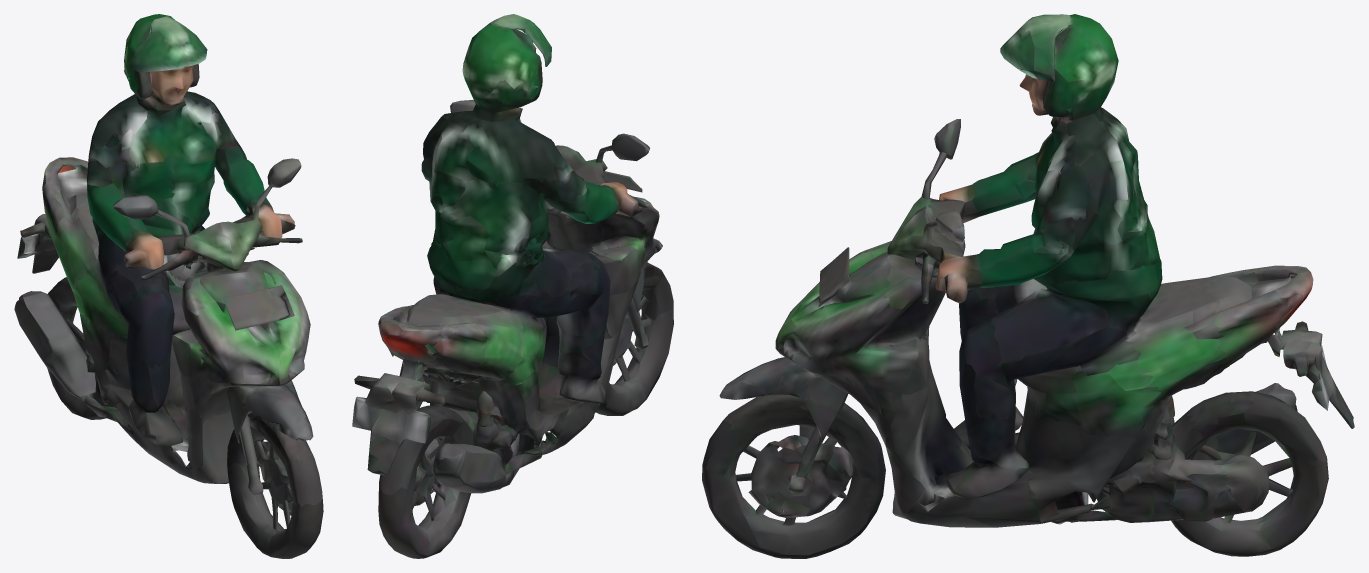
The model's file is gojek_motor_lod2.glb.
The picture shows the model from 3 angles, left to right: view 1: azimuth 30°, elevation 25°; view 2: azimuth 150°, elevation 25°; view 3: azimuth 270°, elevation 25°; orthographic projection. The views are drawn at different scales.
Visible parts, largest first — view 1: tripo_node_ae440db3-2346-4a98-8b22-436718429f5c; view 2: tripo_node_ae440db3-2346-4a98-8b22-436718429f5c; view 3: tripo_node_ae440db3-2346-4a98-8b22-436718429f5c.
Part boxes in pixels (bbox=[...]): tripo_node_ae440db3-2346-4a98-8b22-436718429f5c: bbox=[14, 14, 323, 558]; tripo_node_ae440db3-2346-4a98-8b22-436718429f5c: bbox=[352, 14, 673, 558]; tripo_node_ae440db3-2346-4a98-8b22-436718429f5c: bbox=[702, 14, 1354, 558].
Bounding box in the file's own units: 0.3964 × 0.9098 × 0.9995.
1 material, 1 textured.
